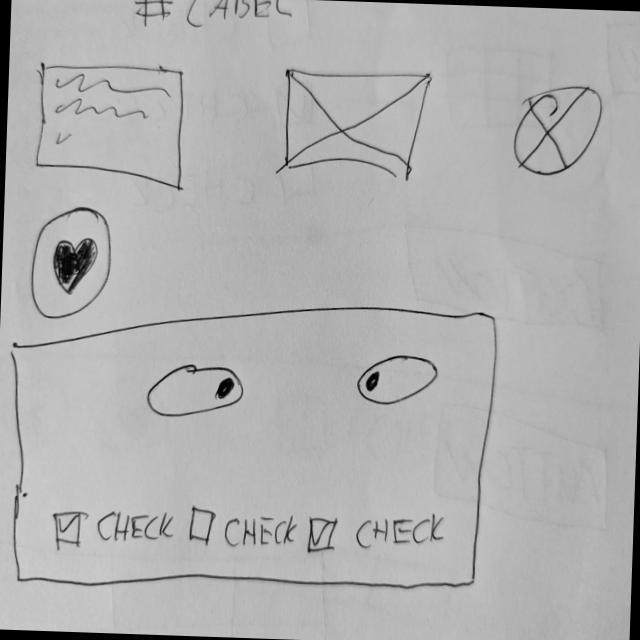checkbox: (304, 509, 449, 564), (50, 501, 178, 552), (184, 505, 300, 557)
container: (2, 291, 503, 603)
icon-button: (27, 202, 116, 324)
image: (279, 64, 433, 187), (511, 79, 607, 184)
label: (131, 1, 295, 33)
textarea: (32, 58, 191, 193)
toggle: (142, 361, 247, 425), (353, 350, 440, 412)
